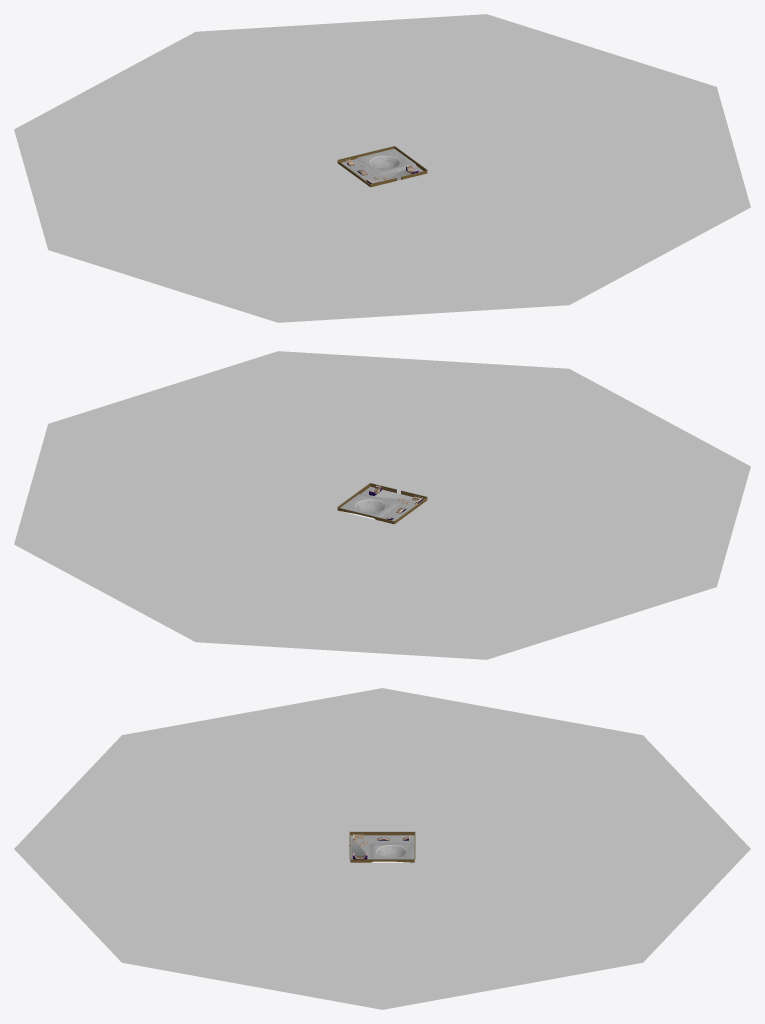
The model's file is ENVO_SkatePark.obj.
The picture shows the model from 3 angles, top to bottom: view 1: azimuth 30°, elevation 25°; view 2: azimuth 150°, elevation 25°; view 3: azimuth 270°, elevation 25°; orthographic projection.
Parts seen in each view (by area): view 1: SkatePark; view 2: SkatePark; view 3: SkatePark.
Boxes of the visible parts, left/top/right/bottom form: SkatePark: left=14, top=14, right=750, bottom=322; SkatePark: left=14, top=351, right=750, bottom=659; SkatePark: left=14, top=688, right=750, bottom=1009.
Size of what is drawn, in the model's own units: 62000 by 821 by 60000.
Materials: 13 (8 with a texture image).
